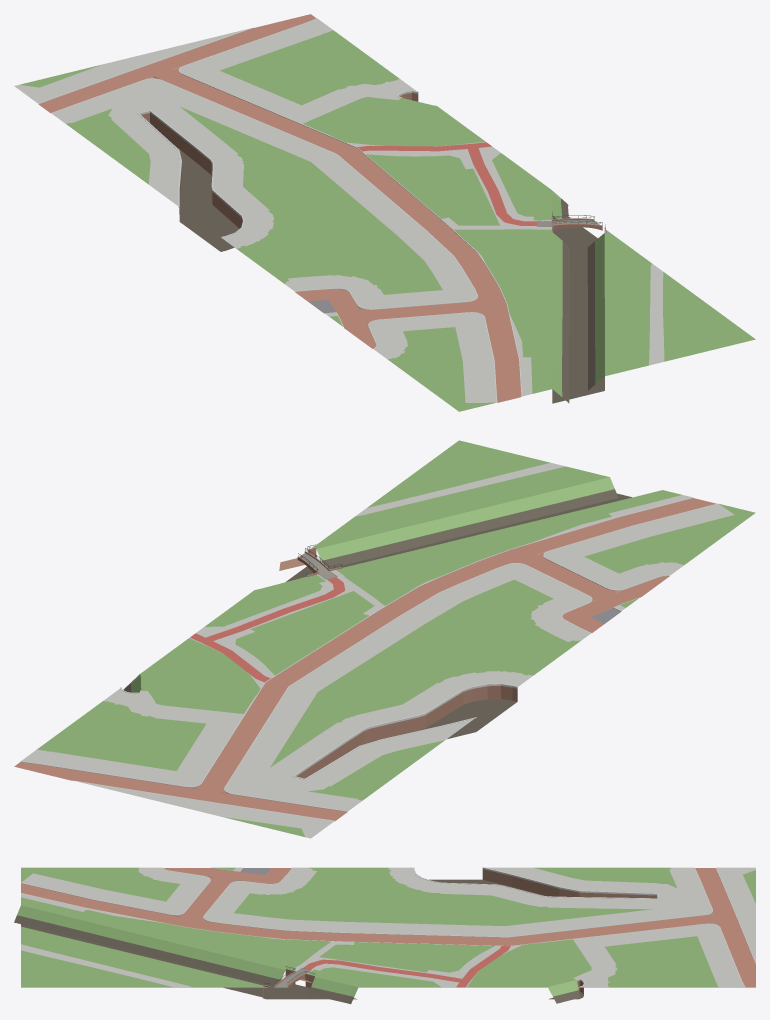
File: ground_13_7.glb
3 renders of one model, top to bottom at view 1: azimuth 30°, elevation 25°; view 2: azimuth 150°, elevation 25°; view 3: azimuth 270°, elevation 25°, orthographic. The views are drawn at different scales.
Visible parts, largest first — view 1: ground_13_7; view 2: ground_13_7; view 3: ground_13_7.
Boxes of the visible parts, x1=… form: ground_13_7: x1=14, y1=14, x2=755, y2=411; ground_13_7: x1=14, y1=440, x2=755, y2=838; ground_13_7: x1=14, y1=867, x2=755, y2=1004.
Bounding box in the file's own units: 81.42 × 5.12 × 202.
